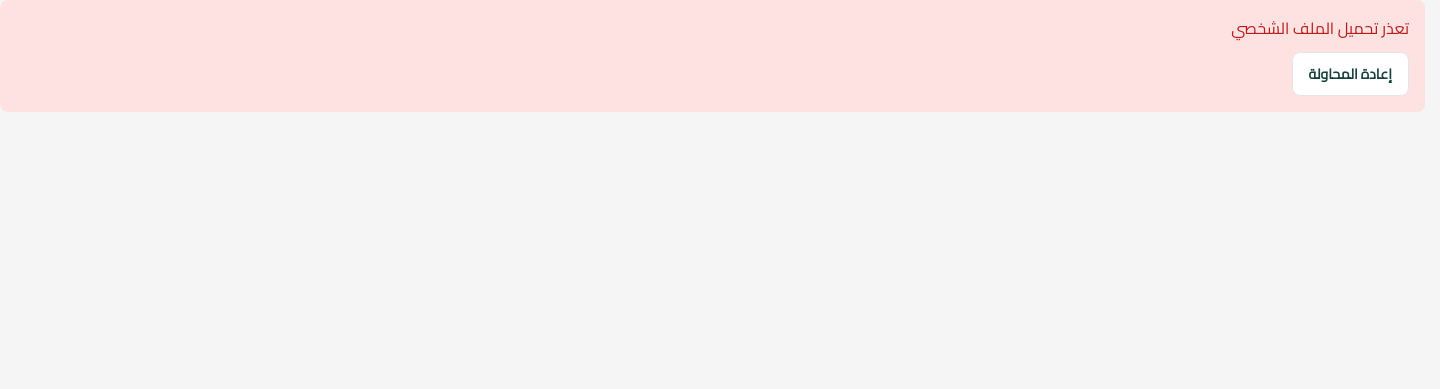
Test: retries a profile server error
Expected: the text "تعذر تحميل الملف الشخصي" is shown, x1=1231 y1=13 x2=1409 y2=43
Click the button "إعادة المحاولة" at (1350, 74), box x1=1292 y1=52 x2=1409 y2=96
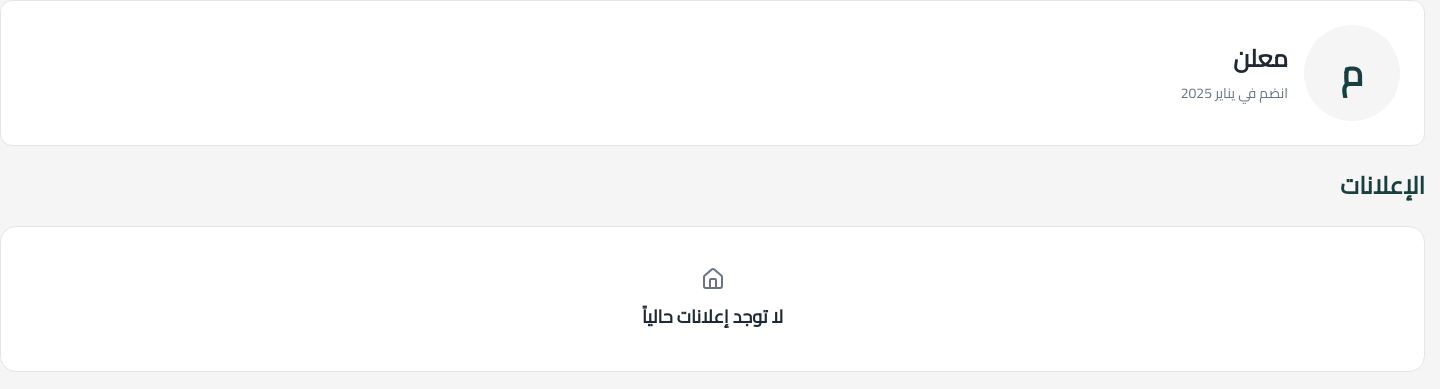
Expected: the heading "معلن" is shown, x1=1233 y1=36 x2=1288 y2=81
